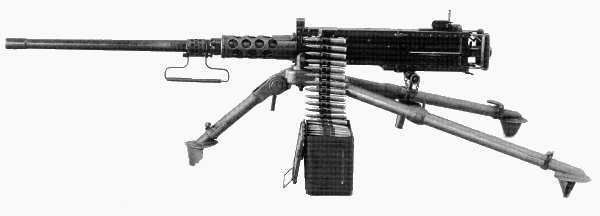rifle: (8, 19, 587, 205)
